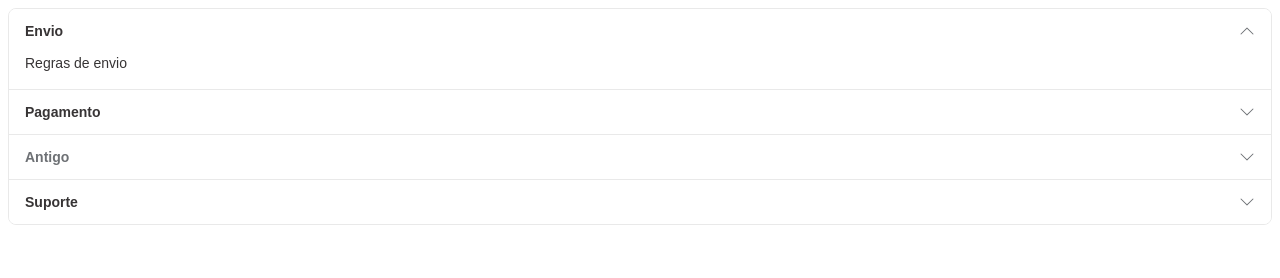
Scenario: Accordion › permite varias secoes abertas quando configurado
Click the button "Pagamento".
click(63, 112)  # box [9, 90, 1271, 134]
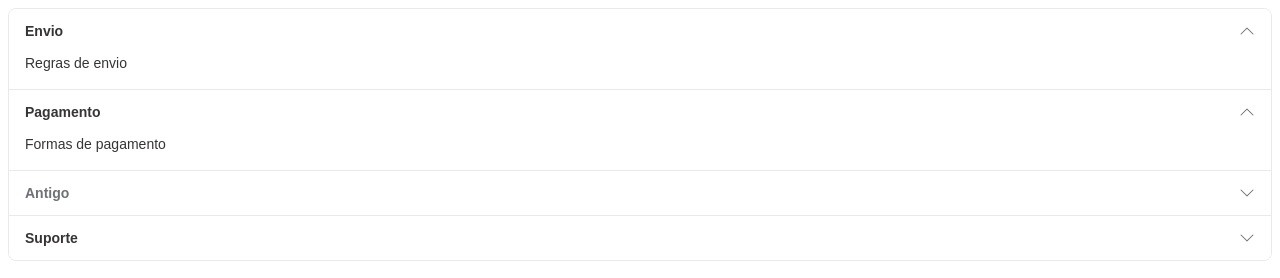
Result: the button "Pagamento" is expanded at [9, 90, 1271, 134]
